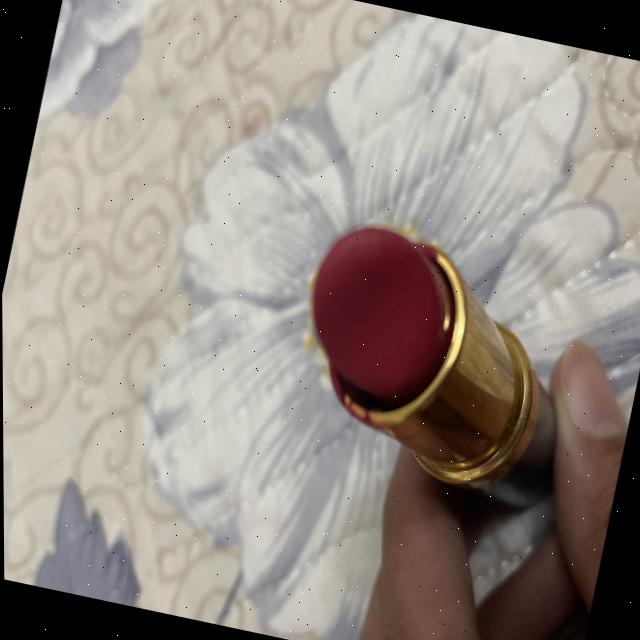lip stick: (265, 188, 591, 518)
